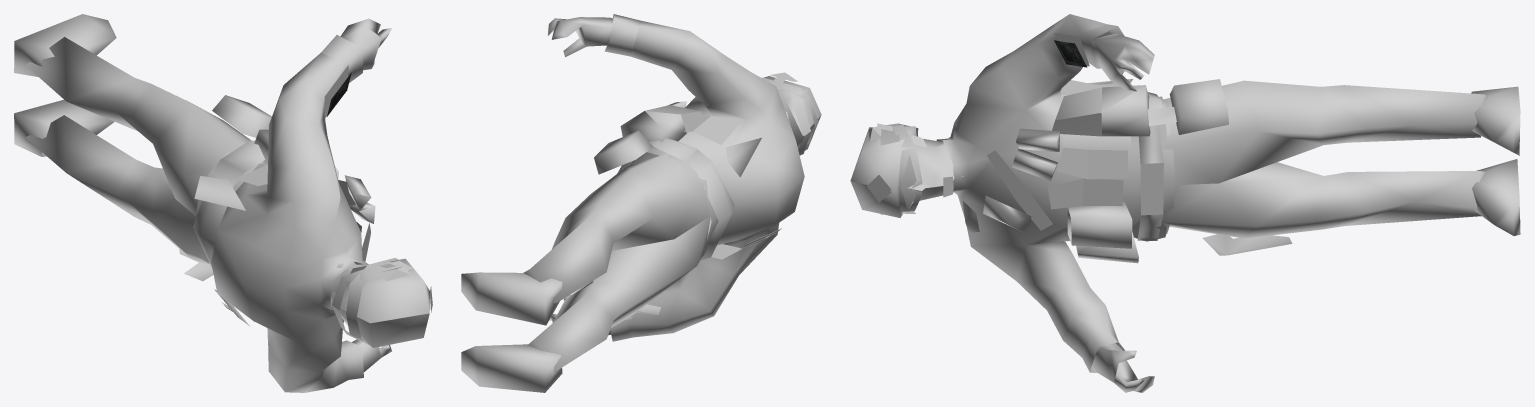
Rendered from c_mul_mp_pmc_assault_fb_LOD3.obj.
3 renders of one model, left to right at view 1: azimuth 30°, elevation 25°; view 2: azimuth 150°, elevation 25°; view 3: azimuth 270°, elevation 25°, orthographic. The views are drawn at different scales.
Parts seen in each view (by area): view 1: mtl_c_mul_mp_pmc_upperbody1, mtl_c_mul_mp_pmc_lbr, mtl_c_mul_mp_pmc_gear_main_1, mtl_c_mul_mp_pmc_helmet1, mtl_c_mul_mp_pmc_gloves1, mtl_c_mul_mp_pmc_ass_gear; view 2: mtl_c_mul_mp_pmc_upperbody1, mtl_c_mul_mp_pmc_lbr, mtl_c_mul_mp_pmc_gear_main_1, mtl_c_mul_mp_pmc_helmet1, mtl_c_mul_mp_pmc_gloves1; view 3: mtl_c_mul_mp_pmc_lbr, mtl_c_mul_mp_pmc_upperbody1, mtl_c_mul_mp_pmc_gear_main_1, mtl_c_mul_mp_pmc_ass_gear, mtl_c_mul_mp_pmc_helmet1, mtl_c_mul_mp_pmc_gloves1, mtl_c_mul_mp_pmc_head_1.
Part boxes in pixels (x1,y1,x2,y2): mtl_c_mul_mp_pmc_upperbody1: (194, 35, 368, 392); mtl_c_mul_mp_pmc_lbr: (25, 37, 250, 263); mtl_c_mul_mp_pmc_gear_main_1: (14, 14, 375, 326); mtl_c_mul_mp_pmc_helmet1: (332, 258, 432, 347); mtl_c_mul_mp_pmc_gloves1: (340, 18, 391, 372); mtl_c_mul_mp_pmc_ass_gear: (179, 180, 361, 281); mtl_c_mul_mp_pmc_upperbody1: (604, 14, 804, 341); mtl_c_mul_mp_pmc_lbr: (523, 153, 710, 371); mtl_c_mul_mp_pmc_gear_main_1: (461, 101, 781, 392); mtl_c_mul_mp_pmc_helmet1: (761, 72, 821, 155); mtl_c_mul_mp_pmc_gloves1: (547, 17, 613, 335); mtl_c_mul_mp_pmc_lbr: (1161, 80, 1487, 238); mtl_c_mul_mp_pmc_upperbody1: (936, 14, 1174, 372); mtl_c_mul_mp_pmc_gear_main_1: (962, 79, 1520, 263); mtl_c_mul_mp_pmc_ass_gear: (1047, 147, 1292, 255); mtl_c_mul_mp_pmc_helmet1: (850, 123, 952, 217); mtl_c_mul_mp_pmc_gloves1: (1091, 33, 1154, 392); mtl_c_mul_mp_pmc_head_1: (906, 135, 963, 200).
Size of the model in its own units: 68.29 by 106 by 185.
